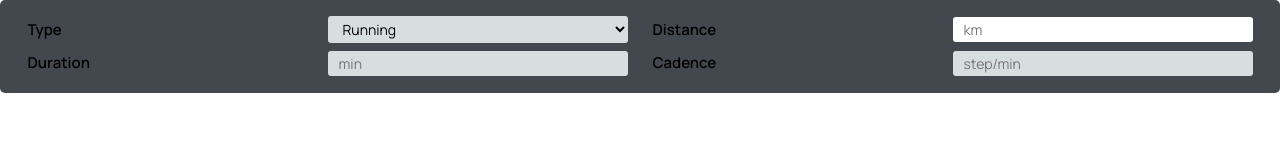
Test: WorkoutForm › switches to cycling fields when cycling is selected
The image size is (1280, 160).
Select "Cycling" in the dropdown labelled "Type". click: (478, 30)
box: [328,16,628,43]
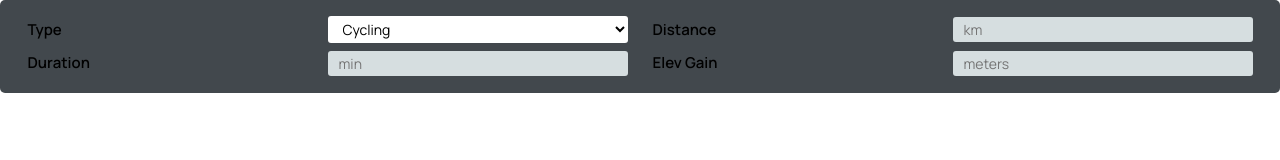
Expected: the field labelled "Elev Gain" is shown, [952,51,1252,76]
Expected: the label labelled "Cadence" is gone
